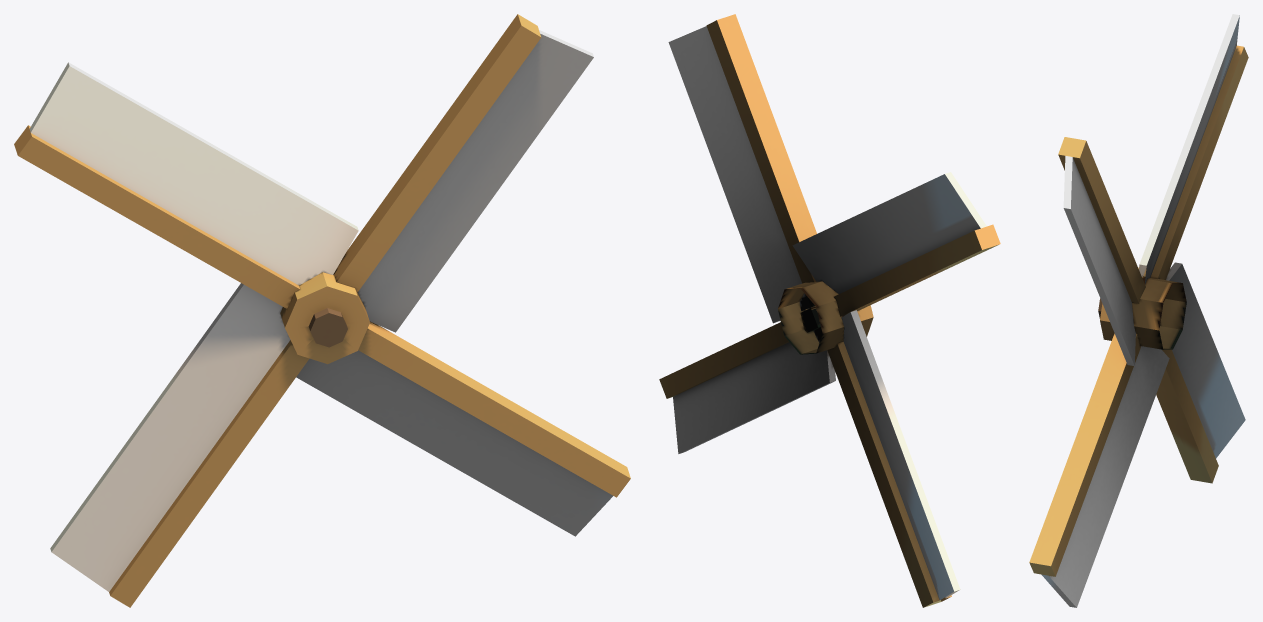
Rendered from fan.gltf.
3 views of the same model, side by side, from view 1: azimuth 30°, elevation 25°; view 2: azimuth 150°, elevation 25°; view 3: azimuth 270°, elevation 25° (orthographic). The views are drawn at different scales.
Visible parts, largest first — view 1: fan; view 2: fan; view 3: fan.
Part boxes in pixels (<box>): fan: <box>14,14,630,607</box>; fan: <box>659,14,1000,607</box>; fan: <box>1029,14,1248,607</box>.
Bounding box in the file's own units: 0.7944 × 0.8403 × 0.3526.
Materials: 1 (1 with a texture image).
